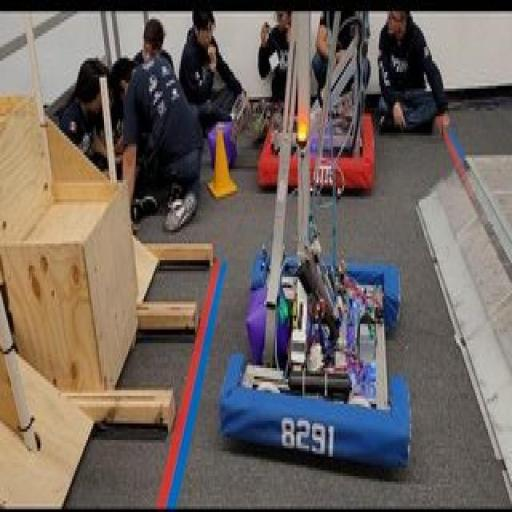robot: (215, 14, 414, 478), (250, 0, 388, 194)
